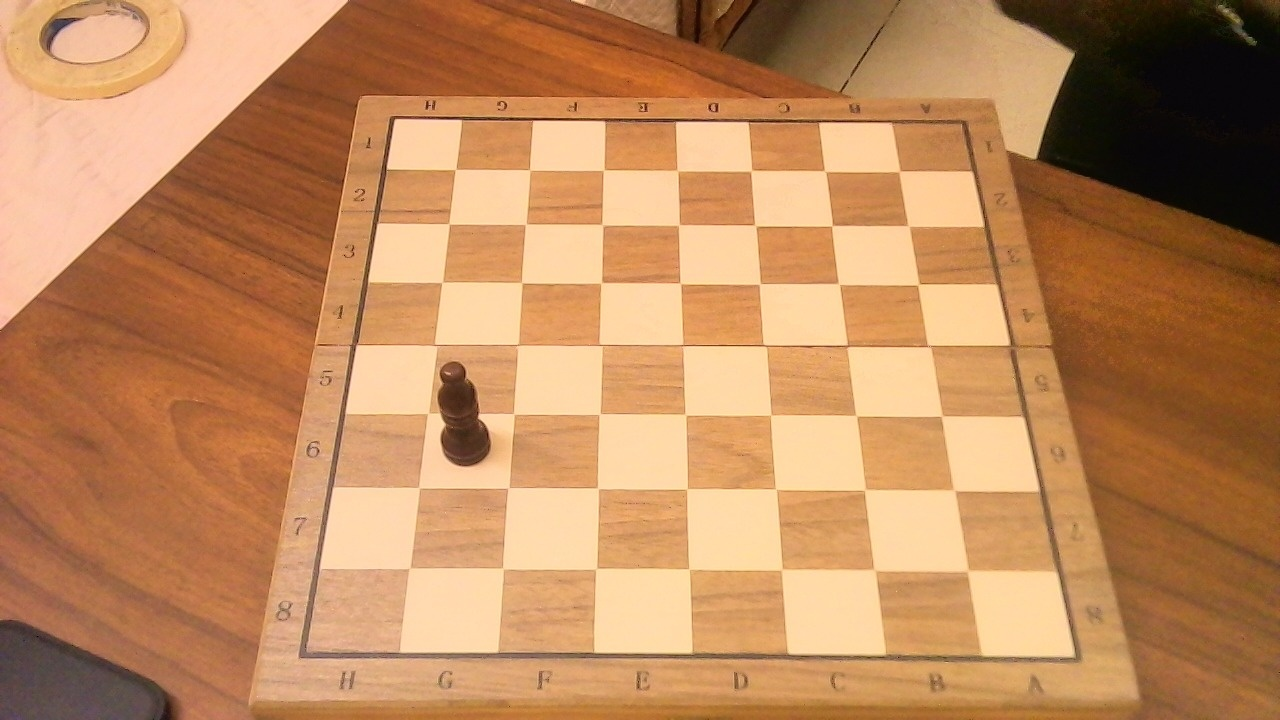b: (429, 348, 502, 470)
